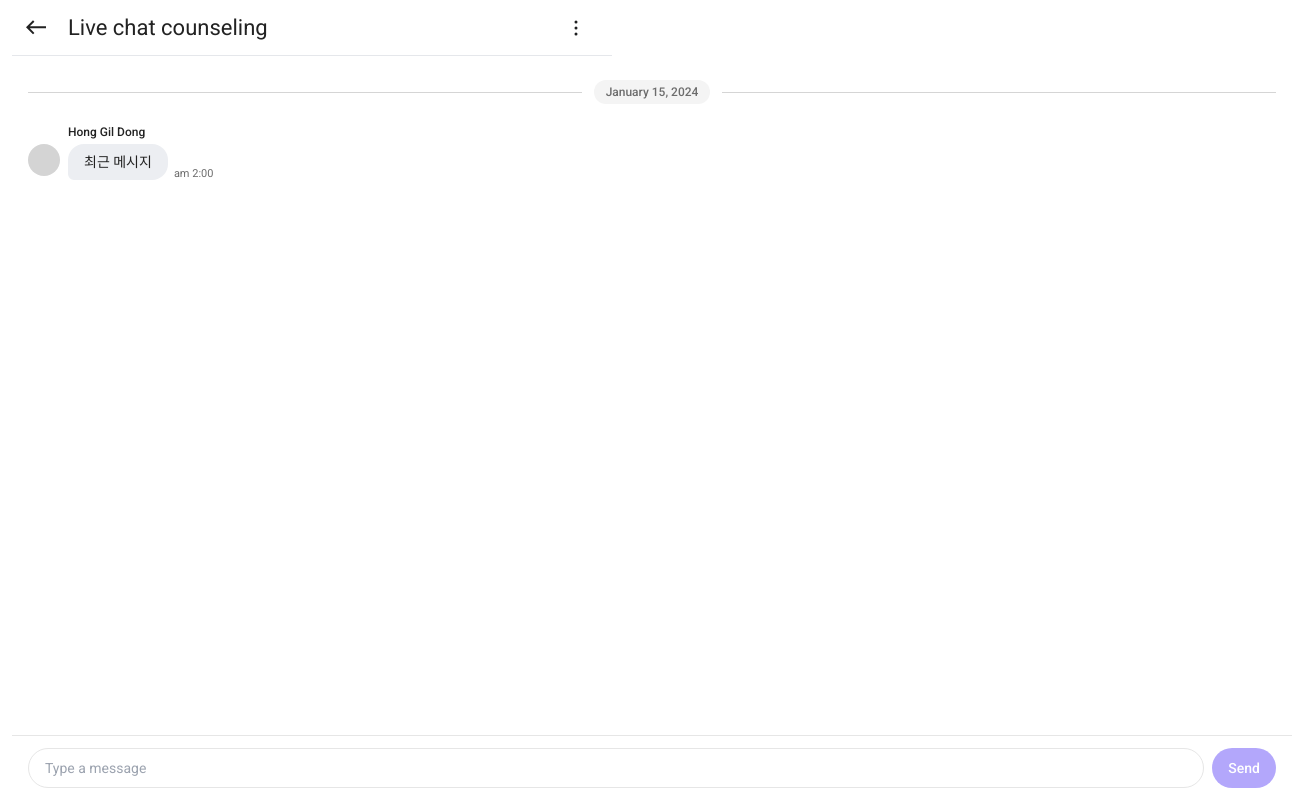
Test: shows my sent message immediately before the websocket echo arrives
The image size is (1292, 800).
Step 1. Type "Immediate hello" into the field with placeholder "Type a message" → (616, 768), box [28,748,1204,788]
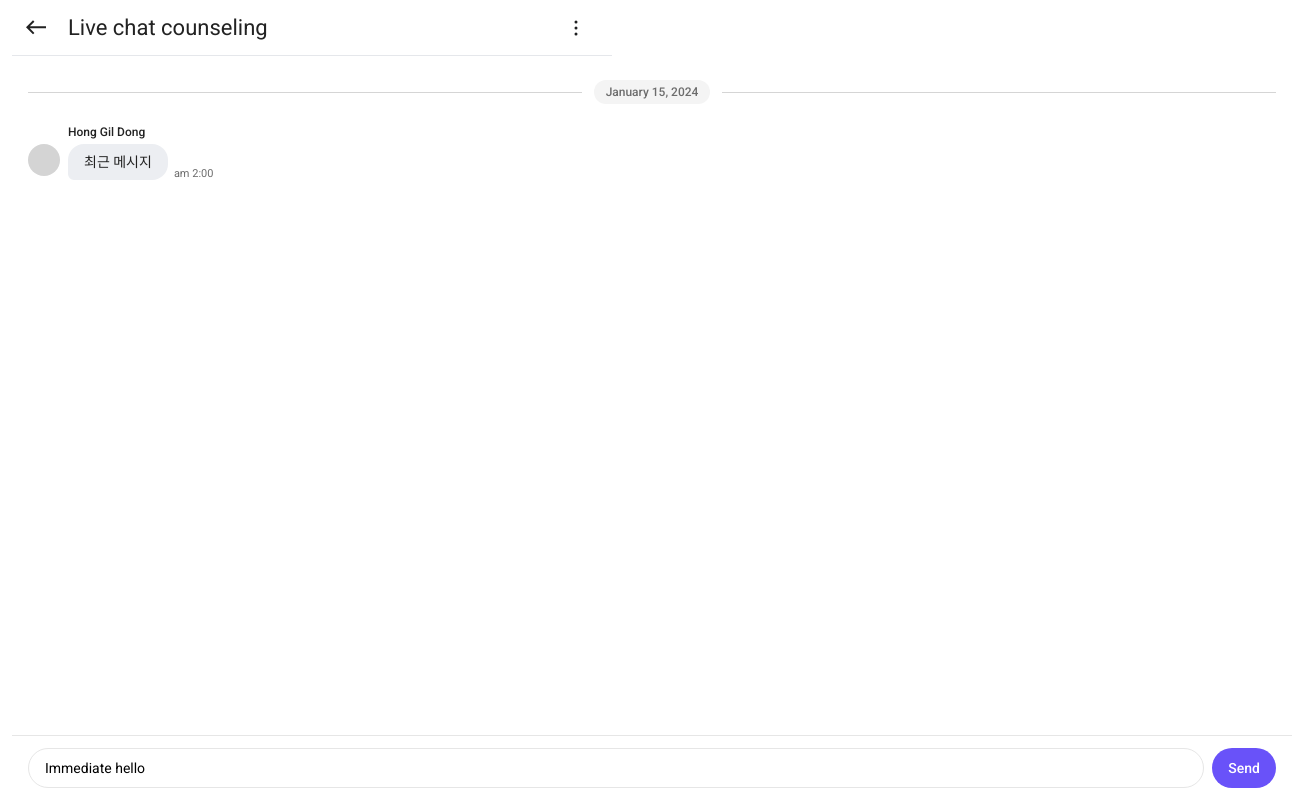
Step 2. Click the button "Send" → (1244, 768), box [1212,748,1276,788]
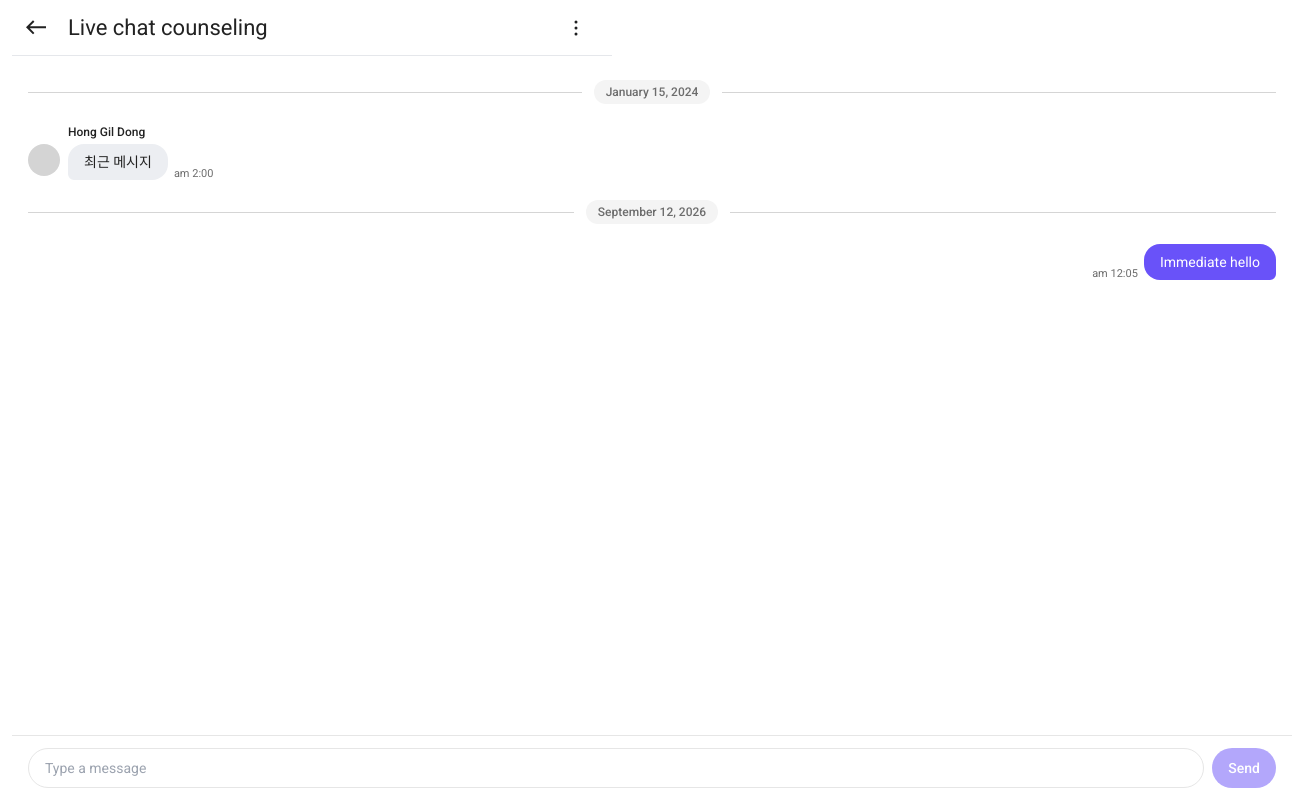
Result: the text "Immediate hello" is shown at [1144,244,1276,280]
